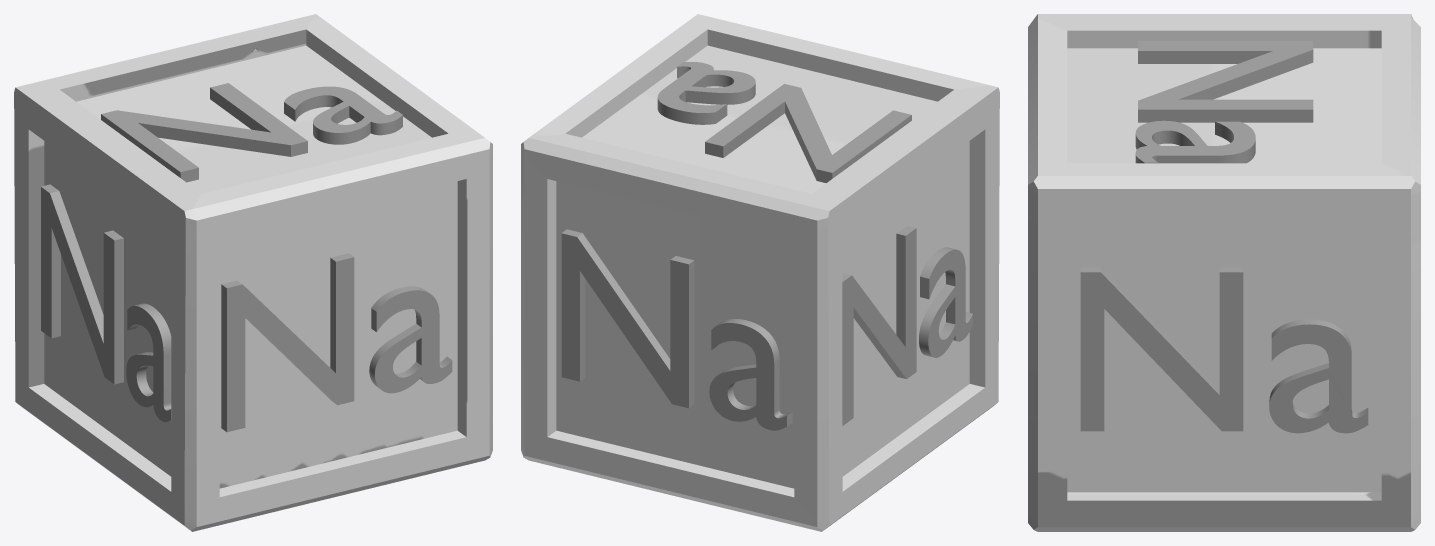
File: Natrium.fbx
3 renders of one model, left to right at view 1: azimuth 30°, elevation 25°; view 2: azimuth 150°, elevation 25°; view 3: azimuth 270°, elevation 25°, orthographic. The views are drawn at different scales.
Parts seen in each view (by area): view 1: Cube.001; view 2: Cube.001; view 3: Cube.001.
Part boxes in pixels (<box>): Cube.001: <box>14,14,492,531</box>; Cube.001: <box>521,14,999,531</box>; Cube.001: <box>1028,14,1420,531</box>.
Bounding box in the file's own units: 84.32 × 84.32 × 84.32.
